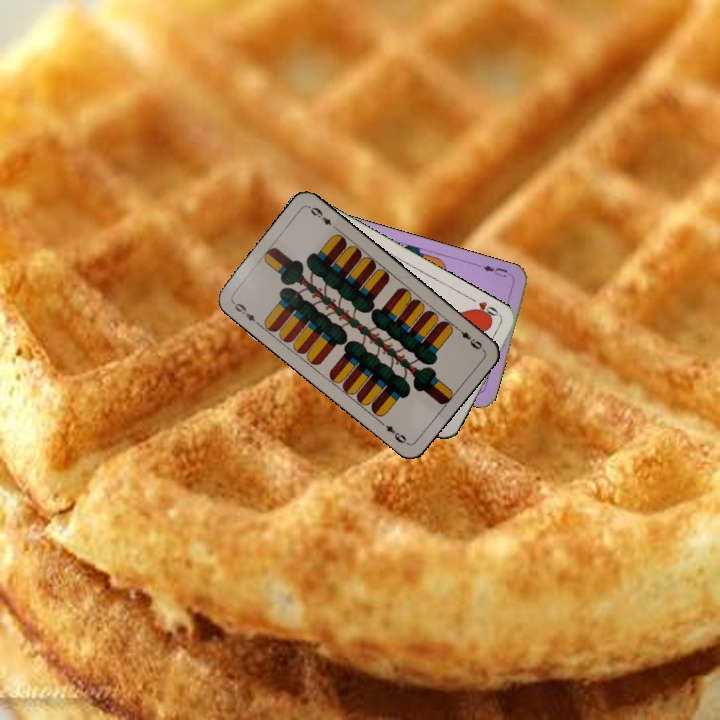E9: (228, 298, 262, 328), (451, 323, 486, 352)
EU: (475, 260, 515, 280)
HO: (467, 294, 504, 323)
